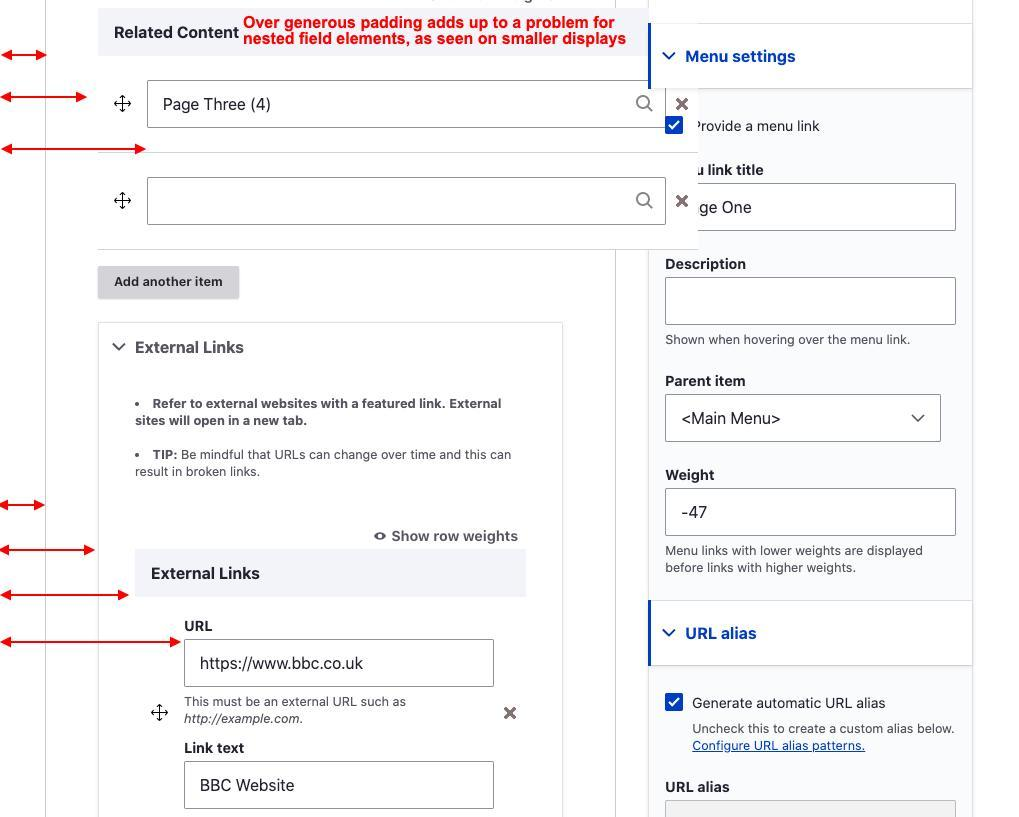button: (100, 268, 241, 302)
checkbox: (662, 693, 687, 717), (666, 116, 685, 136)
dropdown: (648, 599, 976, 669), (651, 24, 978, 87)
icon: (673, 194, 693, 212), (503, 705, 520, 722), (374, 532, 390, 547)
input: (149, 83, 666, 130), (148, 179, 666, 225), (186, 760, 496, 810), (185, 641, 495, 690), (665, 489, 956, 539), (665, 278, 957, 327)
label: (689, 689, 896, 713), (111, 23, 242, 44), (664, 253, 748, 276), (665, 371, 751, 392), (181, 736, 246, 756), (666, 465, 717, 485), (183, 614, 212, 634)
